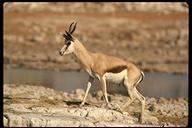antelope: (58, 21, 147, 123)
rock: (7, 104, 124, 126)
water: (6, 68, 81, 87), (146, 70, 186, 94)
